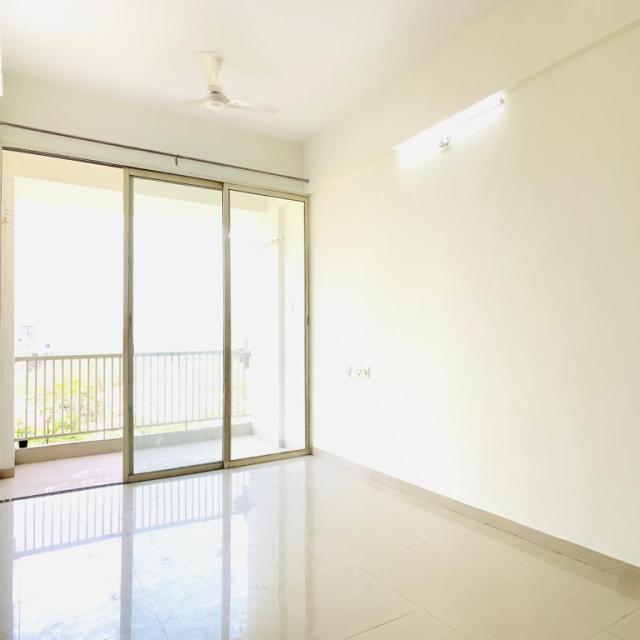floor: (0, 447, 640, 640), (0, 451, 124, 502), (132, 439, 223, 475), (231, 434, 292, 459)
wall: (304, 0, 640, 566), (0, 150, 124, 470), (0, 74, 308, 179), (0, 124, 310, 196), (248, 207, 279, 448), (283, 201, 305, 450), (133, 177, 222, 207), (277, 207, 285, 447), (229, 190, 271, 213), (269, 197, 294, 213)
